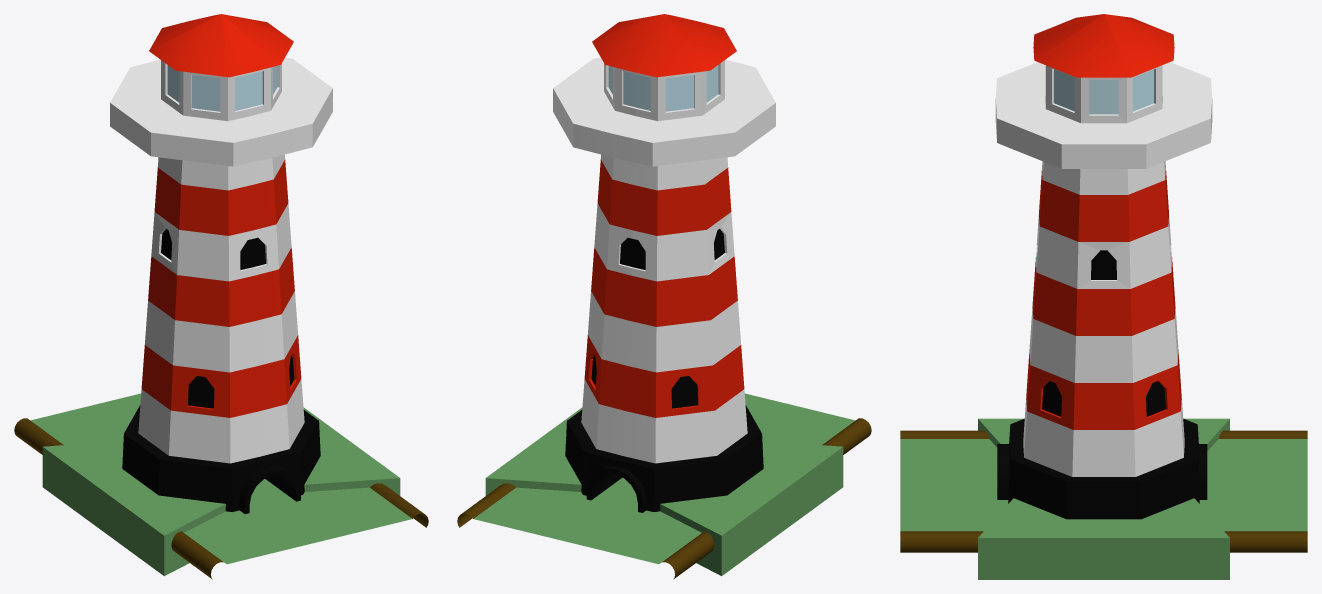
File: LightHouse.FBX
The picture shows the model from 3 angles, left to right: view 1: azimuth 30°, elevation 25°; view 2: azimuth 150°, elevation 25°; view 3: azimuth 270°, elevation 25°; orthographic projection. The views are drawn at different scales.
Parts seen in each view (by area): view 1: Lighthouse, Straihgt; view 2: Lighthouse, Straihgt; view 3: Lighthouse, Straihgt.
Boxes of the visible parts, x1,y1,x2,y2 form: Lighthouse: (42,14,400,576); Straihgt: (14,393,428,579); Lighthouse: (485,14,843,576); Straihgt: (457,393,871,579); Lighthouse: (978,14,1229,579); Straihgt: (900,430,1307,552).
Bounding box in the file's own units: 504 × 997 × 727.
